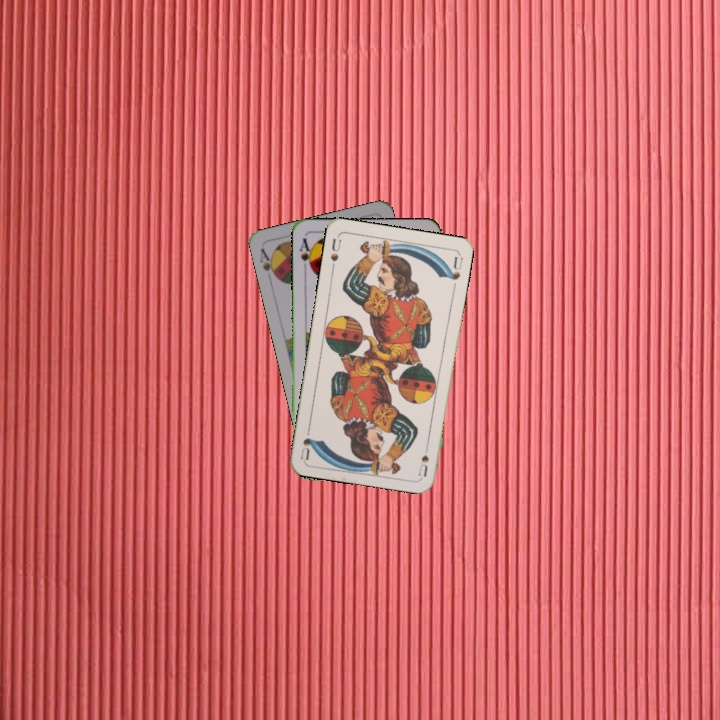SA: (256, 244, 281, 282), (296, 234, 315, 274)
SU: (414, 438, 432, 479), (326, 233, 344, 273)
